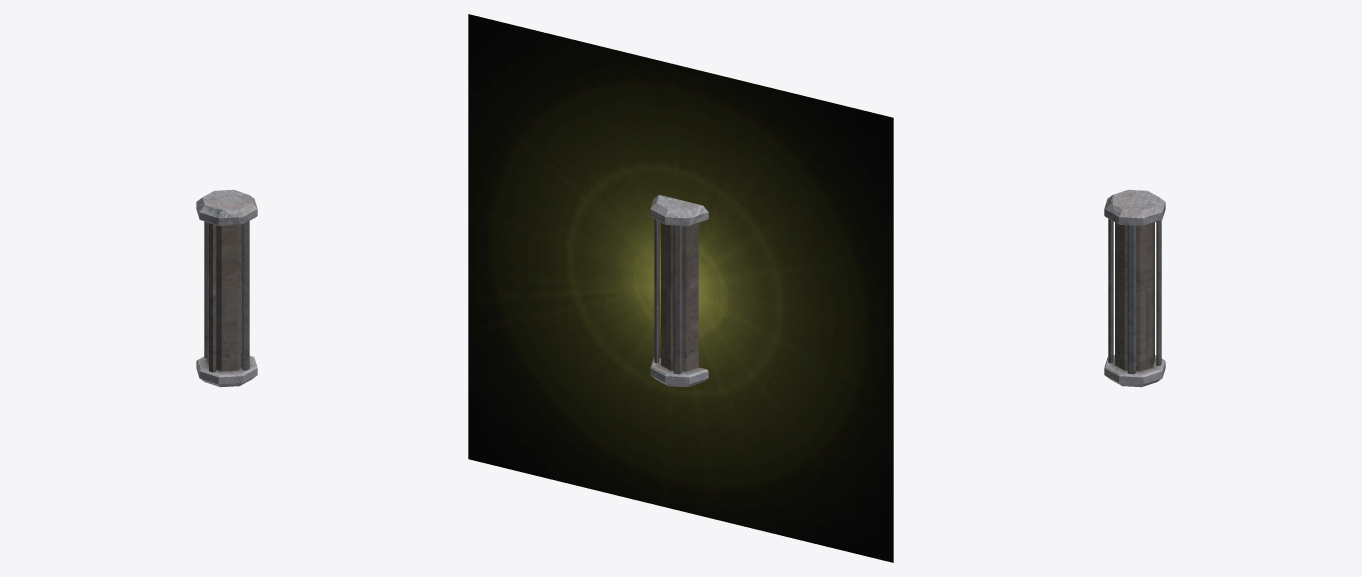
The model's file is item_glowstick.glb.
The picture shows the model from 3 angles, left to right: view 1: azimuth 30°, elevation 25°; view 2: azimuth 150°, elevation 25°; view 3: azimuth 330°, elevation 25°; orthographic projection.
Visible parts, largest first — view 1: Glowtstick; view 2: Quad, Glowtstick; view 3: Glowtstick.
Part boxes in pixels (x1,y1,x2,y2): Glowtstick: (196, 189, 257, 387); Quad: (468, 14, 893, 562); Glowtstick: (650, 195, 708, 387); Glowtstick: (1104, 189, 1165, 387).
Size of the model in its own units: 0.8309 by 0.8309 by 0.1076.
Materials: 2 (2 with a texture image).
